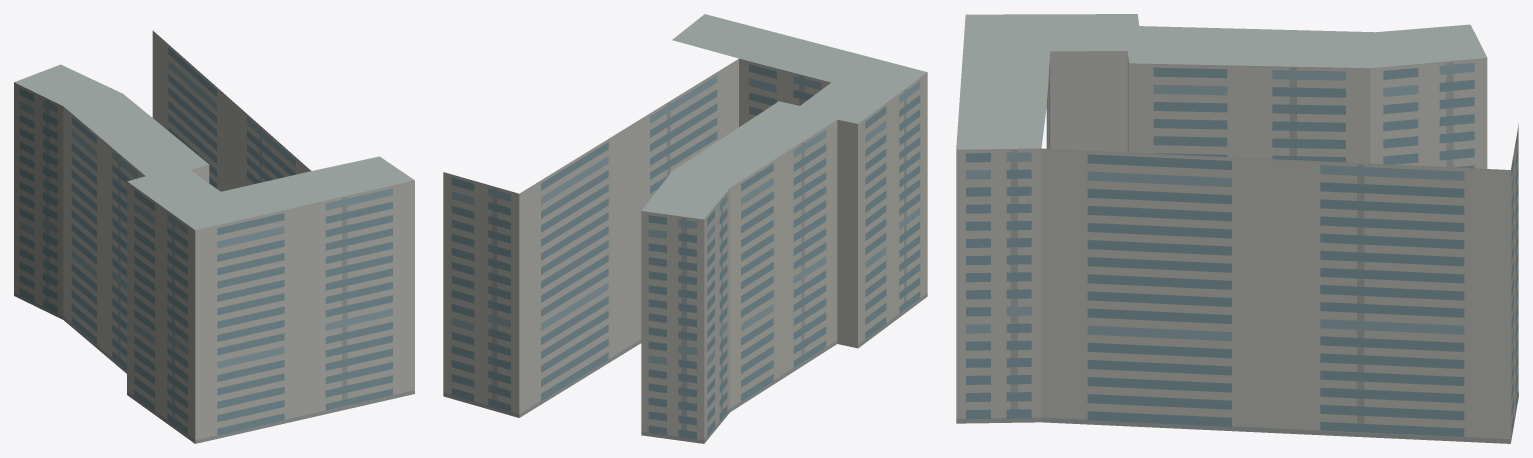
File: residential-8ae327ca-3a30-47c8-8039-94b5d608e5f2.glb
3 views of the same model, side by side, from view 1: azimuth 30°, elevation 25°; view 2: azimuth 150°, elevation 25°; view 3: azimuth 270°, elevation 25° (orthographic). The views are drawn at different scales.
Parts seen in each view (by area): view 1: residential-8ae327ca-3a30-47c8-8039-94b5d608e5f2.tmp; view 2: residential-8ae327ca-3a30-47c8-8039-94b5d608e5f2.tmp; view 3: residential-8ae327ca-3a30-47c8-8039-94b5d608e5f2.tmp.
Part boxes in pixels (bbox=[...]): residential-8ae327ca-3a30-47c8-8039-94b5d608e5f2.tmp: bbox=[14, 30, 414, 443]; residential-8ae327ca-3a30-47c8-8039-94b5d608e5f2.tmp: bbox=[443, 14, 927, 443]; residential-8ae327ca-3a30-47c8-8039-94b5d608e5f2.tmp: bbox=[956, 14, 1518, 443].
Bounding box in the file's own units: 59.88 × 49 × 91.24.
